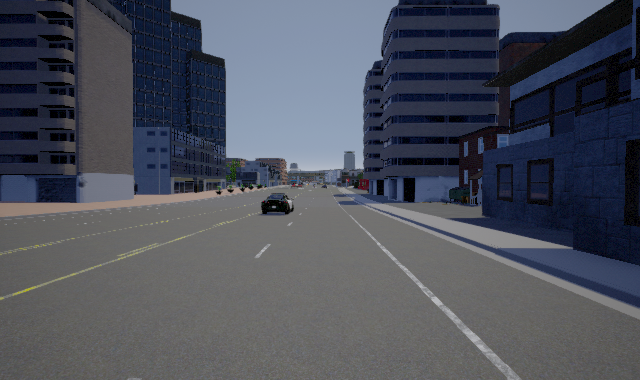traffic_light: (263, 180, 265, 182)
vehicle: (261, 193, 294, 215)
